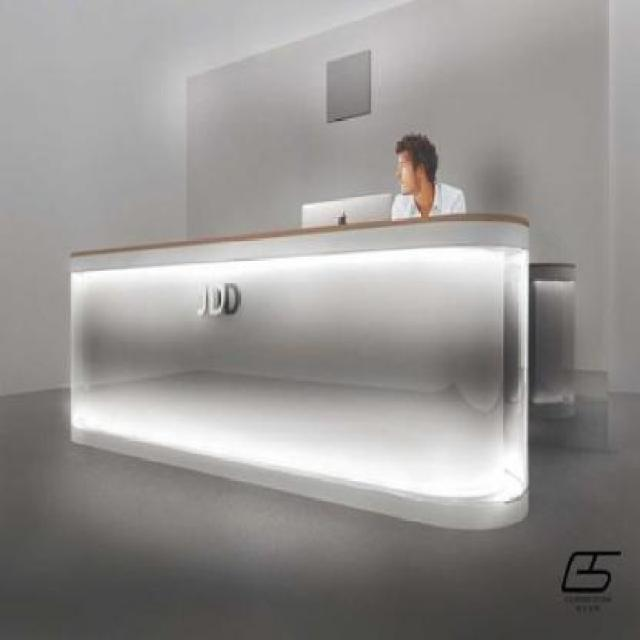frontdesk: (62, 224, 553, 530)
